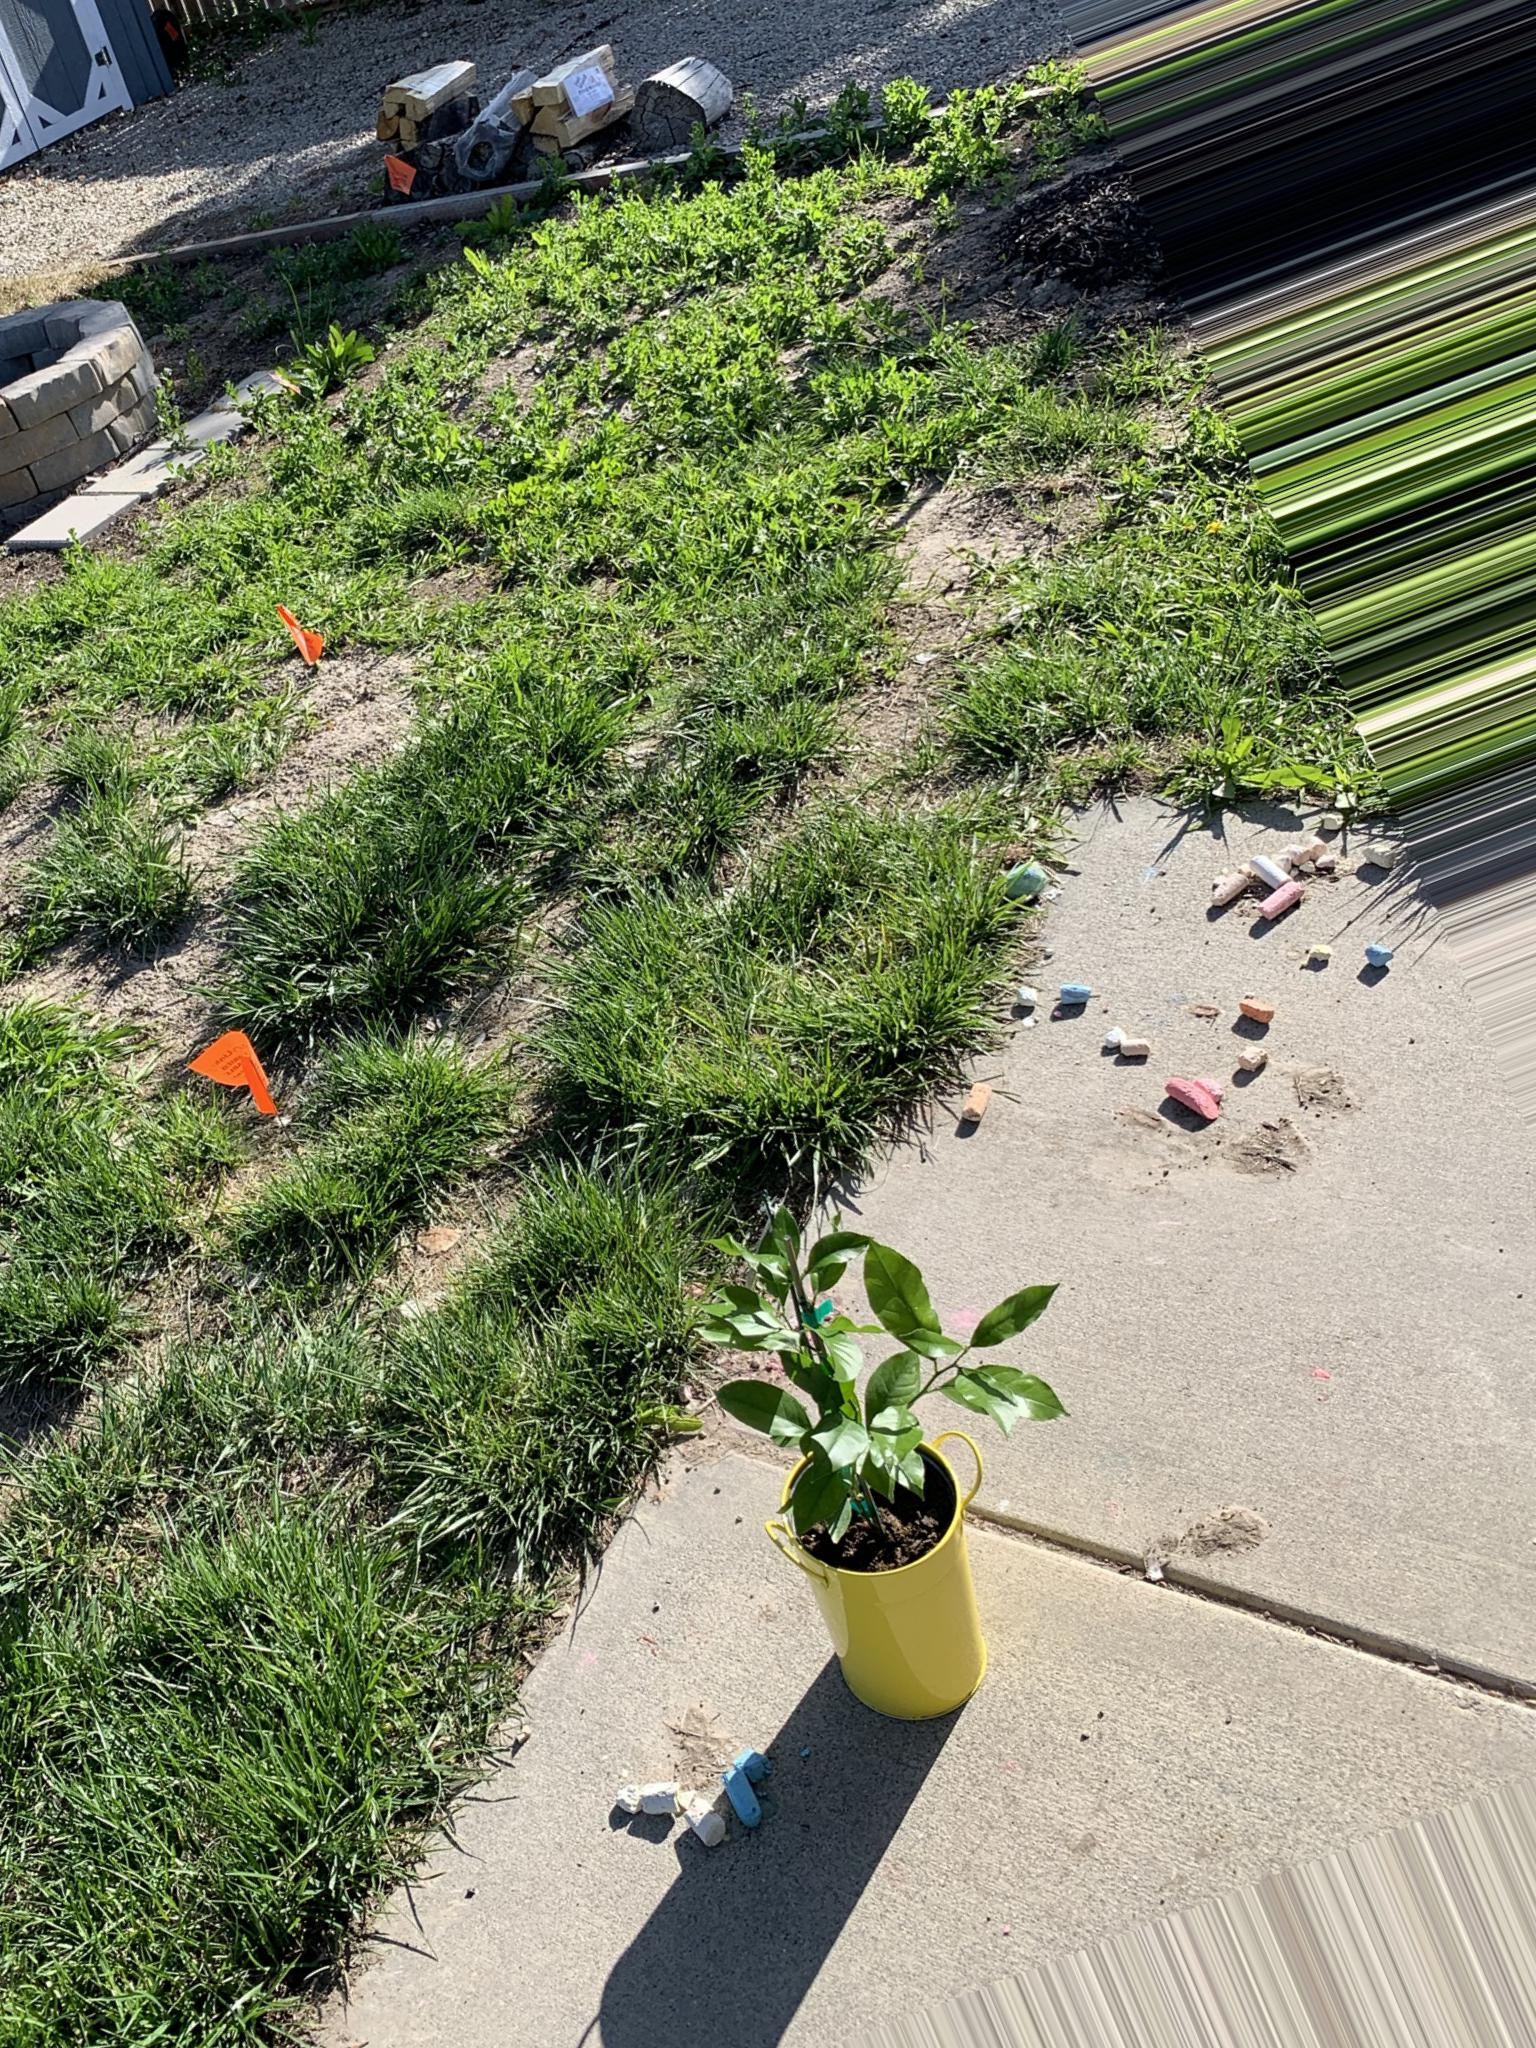patch: (866, 485, 1033, 808), (200, 689, 400, 839), (331, 1174, 547, 1293), (386, 339, 586, 434)
